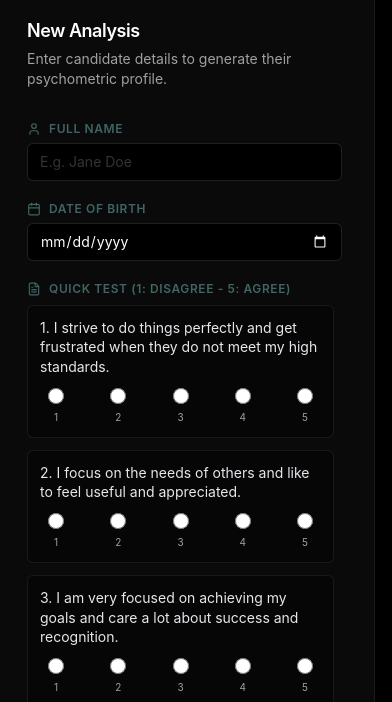
Test: L1 - TalentForm Component › Validation › shows validation errors for incomplete question answers
Type "Test User" into the field labelled "Full Name" at (184, 162), box [27,143,342,181]
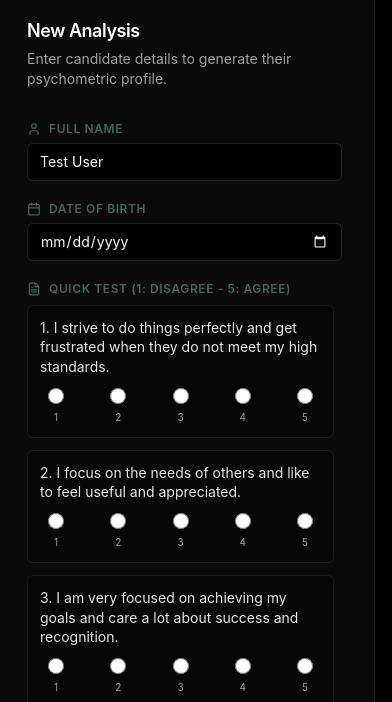
Type "1990-01-01" into the date field labelled "Date of Birth" at (184, 242), box [27,223,342,261]
(page scrolled)
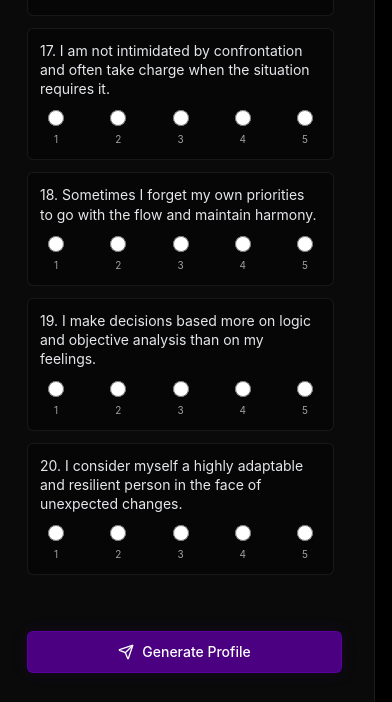
Click the button "Generate Profile" at (184, 652), box [27,631,342,673]
(page scrolled)
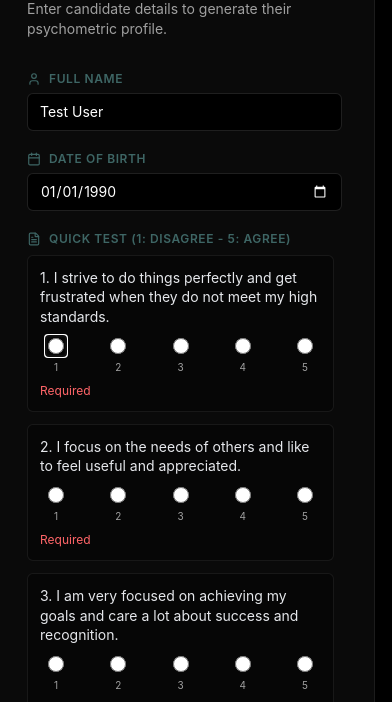
expect the 1st text "Required" is shown: met, box [40,383,91,398]
